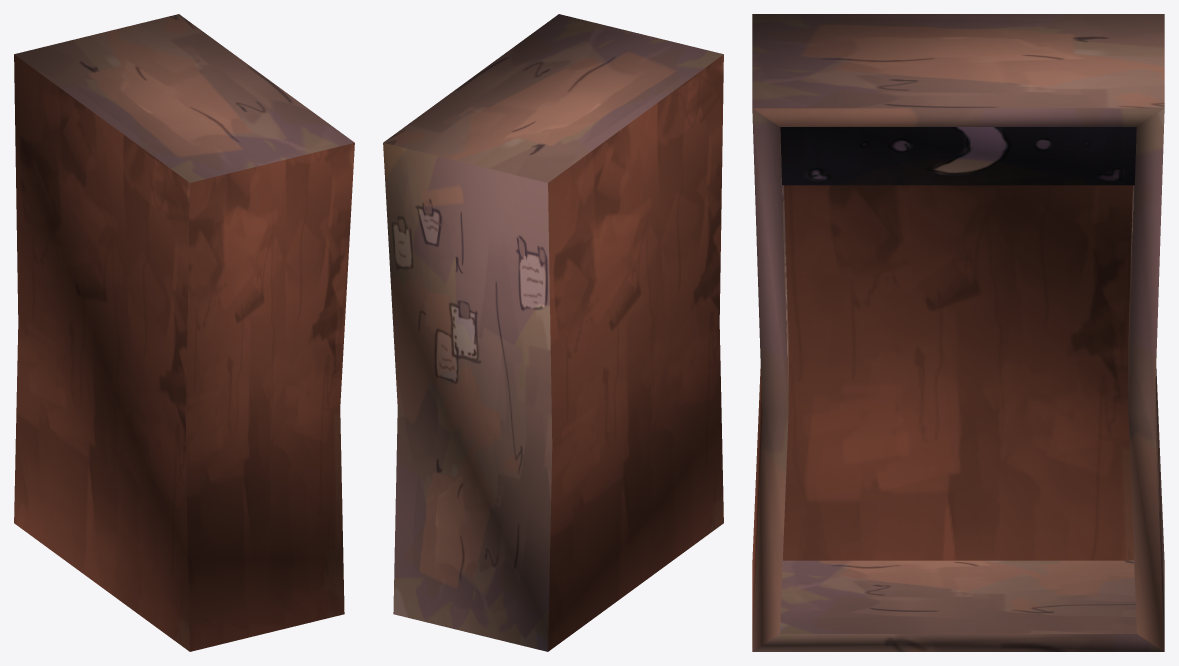
File: Estante2.fbx
3 renders of one model, left to right at view 1: azimuth 30°, elevation 25°; view 2: azimuth 150°, elevation 25°; view 3: azimuth 270°, elevation 25°, orthographic. The views are drawn at different scales.
Parts seen in each view (by area): view 1: Estante2; view 2: Estante2; view 3: Estante2.
Boxes of the visible parts, x1,y1,x2,y2 form: Estante2: [14, 14, 354, 651]; Estante2: [383, 14, 723, 651]; Estante2: [752, 14, 1164, 651].
Bounding box in the file's own units: 82.98 × 153 × 225.
